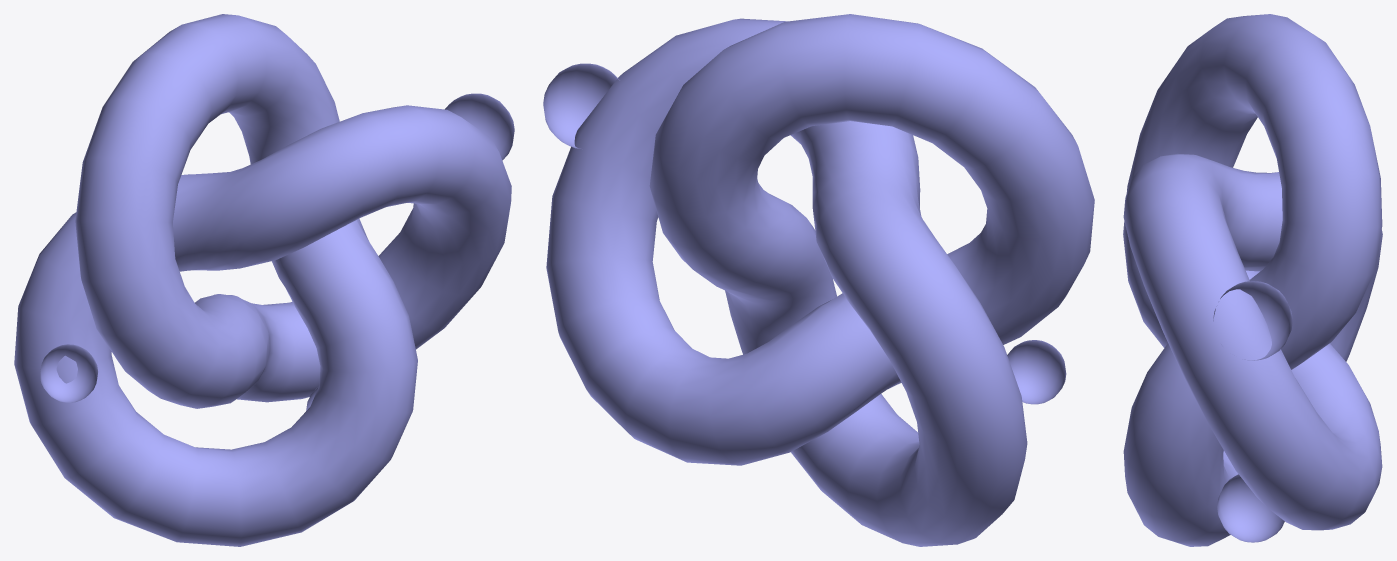
File: sample.glb
3 renders of one model, left to right at view 1: azimuth 30°, elevation 25°; view 2: azimuth 150°, elevation 25°; view 3: azimuth 270°, elevation 25°, orthographic. The views are drawn at different scales.
Visible parts, largest first — view 1: AntiGravityModel; view 2: AntiGravityModel; view 3: AntiGravityModel.
Part boxes in pixels (x1,y1,x2,y2): AntiGravityModel: [14, 14, 514, 546]; AntiGravityModel: [543, 14, 1094, 546]; AntiGravityModel: [1123, 14, 1382, 546].
Size of the model in its own units: 2.75 by 2.76 by 1.3.
